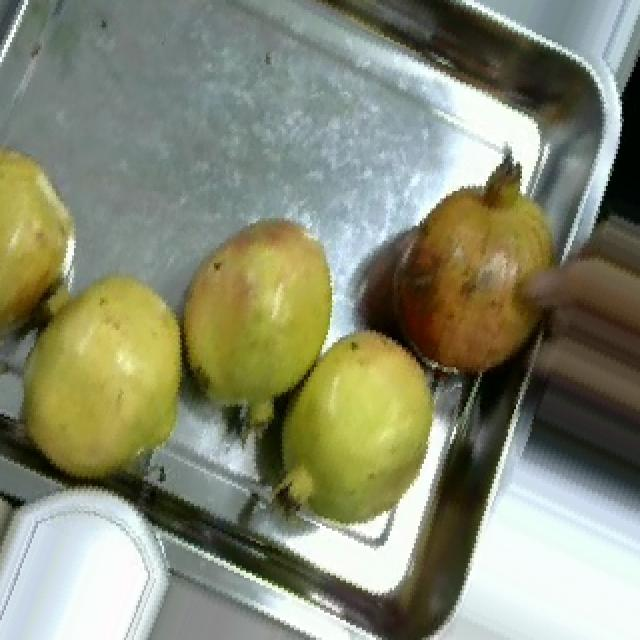fruit: (366, 144, 586, 414), (0, 248, 214, 514), (154, 191, 364, 459), (0, 116, 100, 360)
